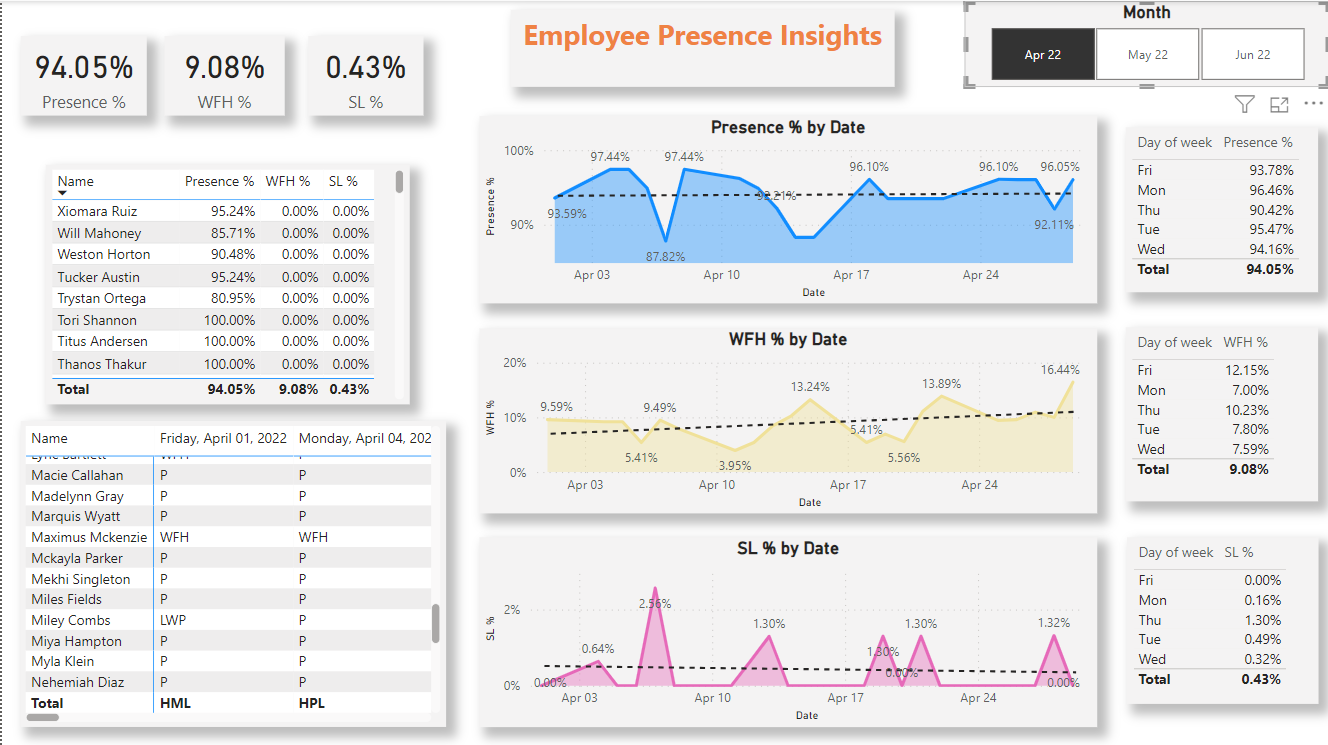

Layout of this report page (visuals, bound fields, positions):
{"tool":"powerbi","page":{"name":"Page 1","canvas":[1280,720],"ordinal":0},"visuals":[{"type":"card","fields":{"Values":["Measure Table.Presence %"]},"box":[18.1,33.8,121.8,77.2],"z":0},{"type":"slicer","title":"Month","fields":{"Values":["Final Data.Month"]},"box":[928.6,0,352.2,83.2],"z":1000},{"type":"card","fields":{"Values":["Measure Table.WFH %"]},"box":[156.8,33.8,115.8,77.2],"z":2000},{"type":"card","fields":{"Values":["Measure Table.SL %"]},"box":[295.5,33.8,111,77.2],"z":3000},{"type":"tableEx","fields":{"Values":["Final Data.Name","Measure Table.Presence %","Measure Table.WFH %","Measure Table.SL %"]},"box":[42.2,158,351,231.6],"z":4000},{"type":"pivotTable","fields":{"Rows":["Final Data.Name"],"Values":["Min(Final Data.Value)"],"Columns":["Final Data.Date"]},"box":[18.1,405.2,410.1,295.5],"z":5000},{"type":"areaChart","fields":{"Category":["Final Data.Date"],"Y":["Measure Table.WFH %"]},"box":[460.7,316,595.8,178.5],"z":6000},{"type":"areaChart","fields":{"Category":["Final Data.Date"],"Y":["Measure Table.Presence %"]},"box":[460.7,111,595.8,180.9],"z":7000},{"type":"areaChart","fields":{"Category":["Final Data.Date"],"Y":["Measure Table.SL %"]},"box":[460.7,517.4,595.8,183.3],"z":8000},{"type":"tableEx","fields":{"Values":["Final Data.Day of week","Measure Table.Presence %"]},"box":[1084.2,121.8,185.7,159.2],"z":9000},{"type":"tableEx","fields":{"Values":["Final Data.Day of week","Measure Table.WFH %"]},"box":[1084.2,314.8,185.7,167.6],"z":10000},{"type":"tableEx","fields":{"Values":["Final Data.Day of week","Measure Table.SL %"]},"box":[1085.4,517.4,184.5,160.4],"z":11000},{"type":"textbox","box":[490.9,8.4,370.3,74.8],"z":12000}]}

Visuals, with their boxes in screenshot pixels (x1, y1, x2, y2), scaled from the page's 1280x720 canvas onto the 1328x745 screenshot:
card - Measure Table.Presence %: pyautogui.locateOnScreen(19, 35, 145, 115)
"Month" slicer: pyautogui.locateOnScreen(963, 0, 1327, 86)
card - Measure Table.WFH %: pyautogui.locateOnScreen(163, 35, 283, 115)
card - Measure Table.SL %: pyautogui.locateOnScreen(307, 35, 422, 115)
tableEx - Final Data.Name x Measure Table.Presence %: pyautogui.locateOnScreen(44, 163, 408, 403)
pivotTable - Final Data.Name x Min(Final Data.Value): pyautogui.locateOnScreen(19, 419, 444, 725)
areaChart - Final Data.Date x Measure Table.WFH %: pyautogui.locateOnScreen(478, 327, 1096, 512)
areaChart - Final Data.Date x Measure Table.Presence %: pyautogui.locateOnScreen(478, 115, 1096, 302)
areaChart - Final Data.Date x Measure Table.SL %: pyautogui.locateOnScreen(478, 535, 1096, 725)
tableEx - Final Data.Day of week x Measure Table.Presence %: pyautogui.locateOnScreen(1125, 126, 1318, 291)
tableEx - Final Data.Day of week x Measure Table.WFH %: pyautogui.locateOnScreen(1125, 326, 1318, 499)
tableEx - Final Data.Day of week x Measure Table.SL %: pyautogui.locateOnScreen(1126, 535, 1318, 701)
textbox: pyautogui.locateOnScreen(509, 9, 893, 86)
